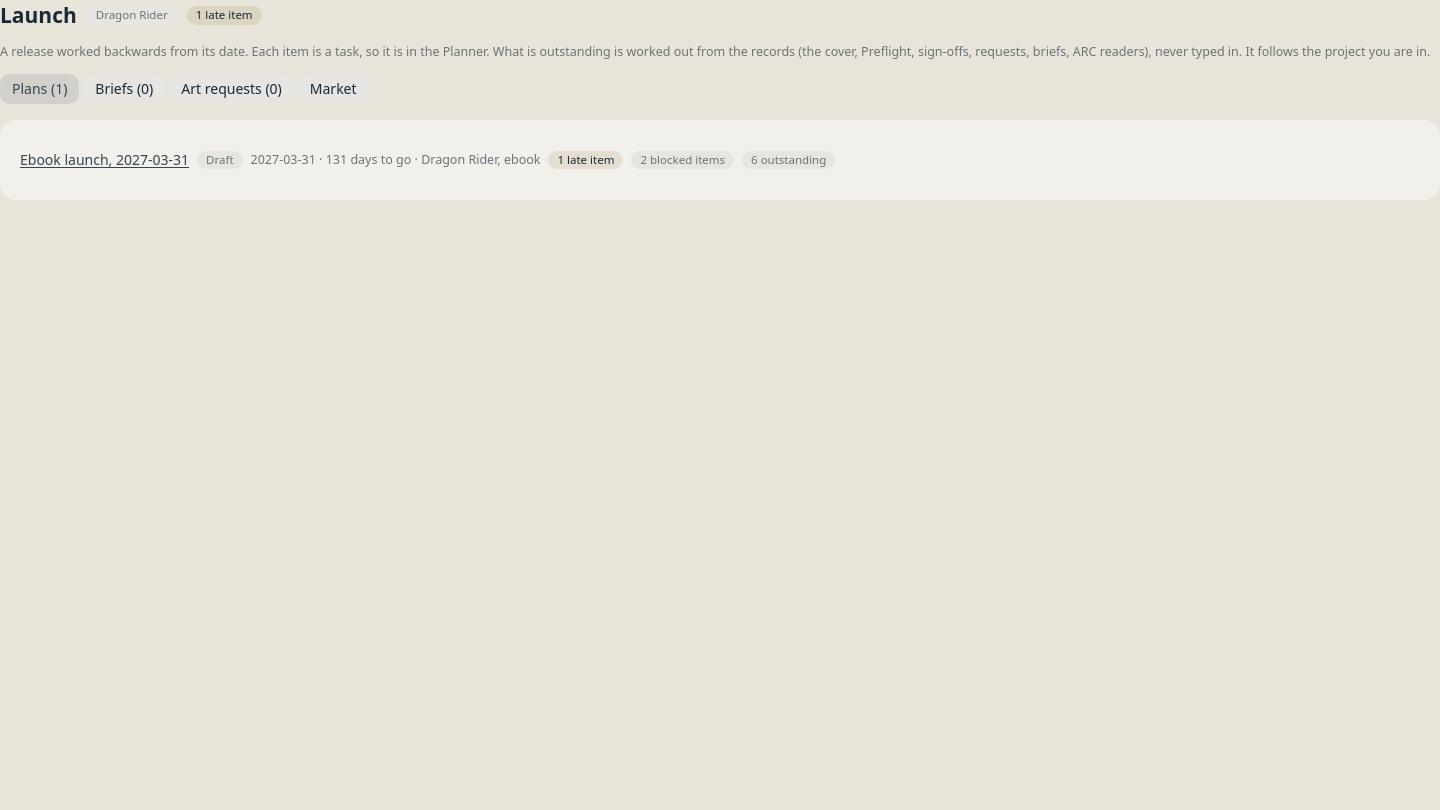
Test: the Launch page › a person who may only read a plan sees no readers button, no approve and no move-the-date
Click the button "Ebook launch, 2027-03-31". click: (105, 160)
box: [20,150,189,170]
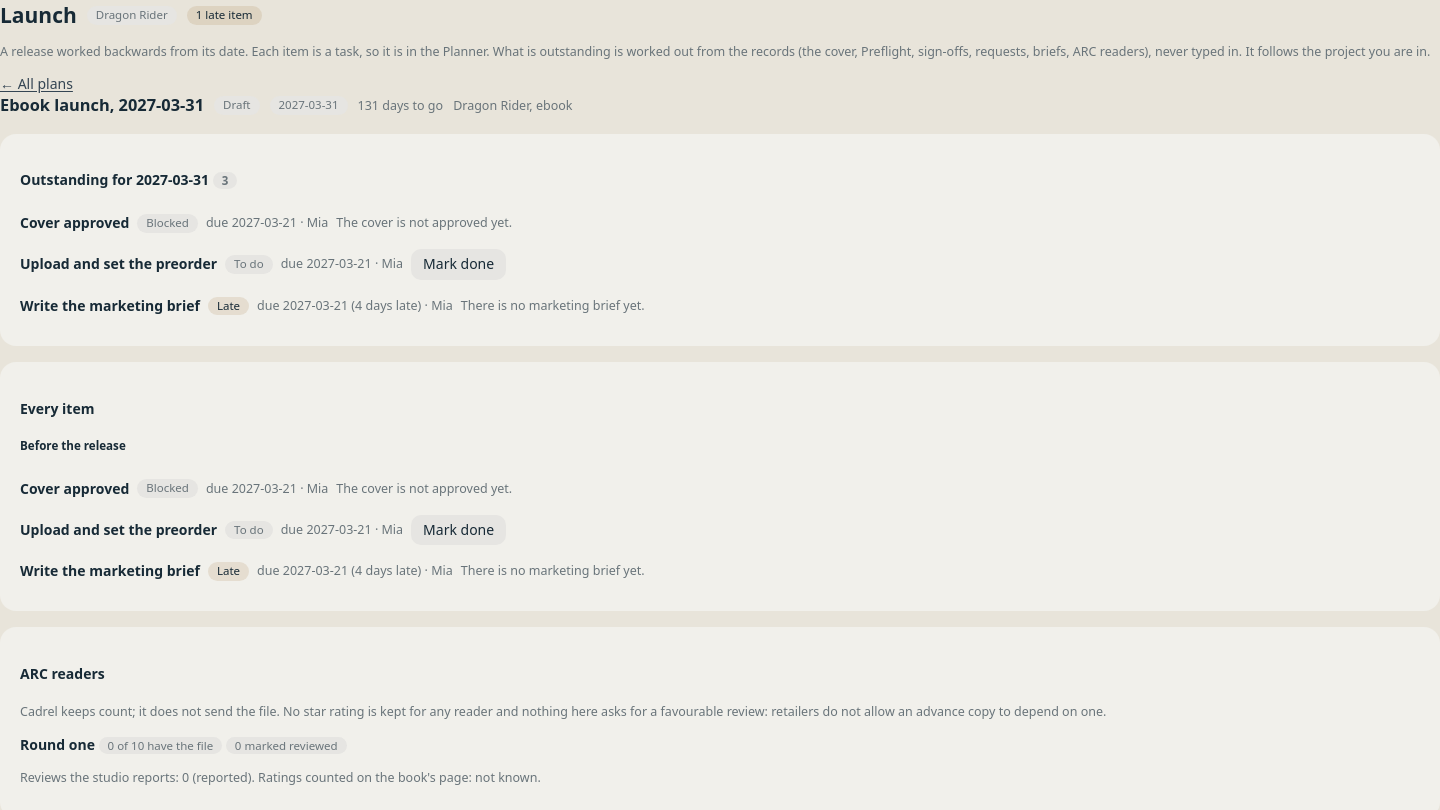
Expected: the text "0 of 10 have the file" is shown, [99,737,222,754]
